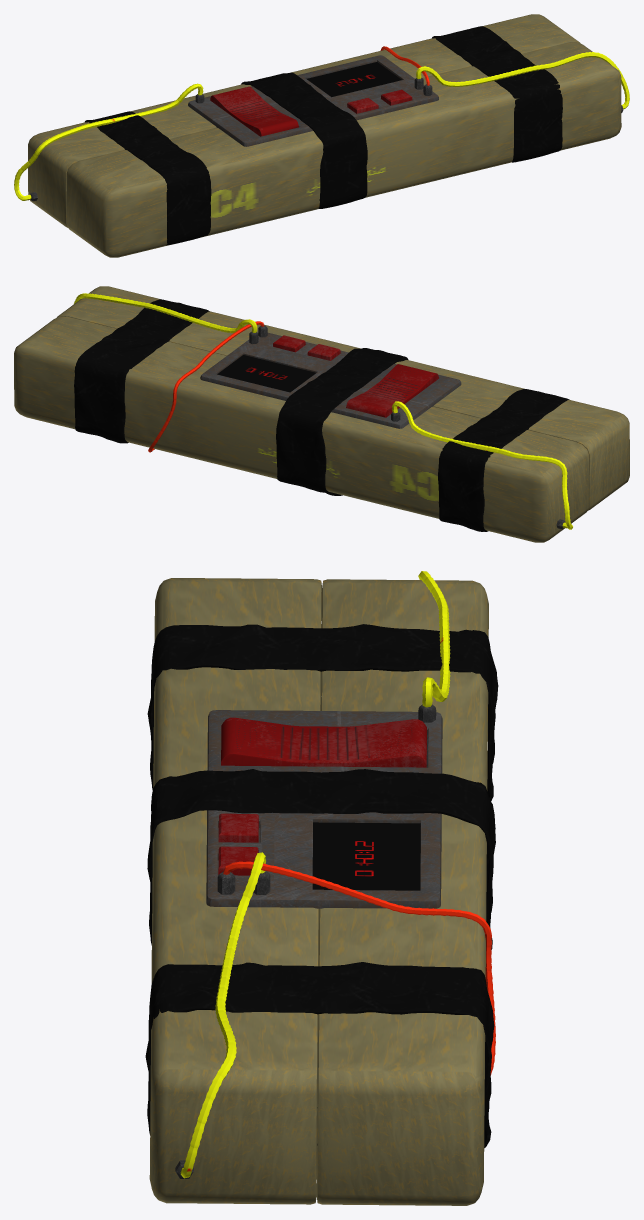
3 views of the same model, one above another, from view 1: azimuth 30°, elevation 25°; view 2: azimuth 150°, elevation 25°; view 3: azimuth 270°, elevation 25° (orthographic). The views are drawn at different scales.
Visible parts, largest first — view 1: Cube.001, skotch_low, Cube, Cube.004, Cube.011, Cylinder.003, Cylinder.006; view 2: Cube, skotch_low, Cube.001, Cube.004, Cube.011, Cylinder.006, Cylinder.003, Cylinder, Cube.005, Cube.010; view 3: Cube.001, Cube, skotch_low, Cube.004, Cube.011, Cylinder.003, Cylinder, Cylinder.006, Cube.005, Cube.010.
Part boxes in pixels (x1,y1,x2,y2): Cube.001: (66, 42, 621, 257); skotch_low: (85, 26, 562, 245); Cube: (28, 14, 580, 227); Cube.004: (188, 55, 438, 146); Cube.011: (210, 86, 298, 136); Cylinder.003: (416, 52, 629, 109); Cylinder.006: (14, 83, 203, 200); Cube: (14, 316, 589, 542); skotch_low: (74, 299, 569, 531); Cube.001: (57, 286, 629, 510); Cube.004: (200, 332, 461, 428); Cube.011: (346, 364, 438, 417); Cylinder.006: (392, 401, 572, 529); Cylinder.003: (74, 293, 257, 333); Cylinder: (148, 321, 264, 452); Cube.005: (307, 344, 340, 360); Cube.010: (273, 335, 305, 352); Cube.001: (149, 578, 321, 1204); Cube: (316, 579, 488, 1205); skotch_low: (145, 624, 498, 1147); Cube.004: (206, 710, 442, 908); Cube.011: (221, 717, 426, 767); Cylinder.003: (180, 852, 265, 1178); Cylinder: (223, 861, 495, 1075); Cylinder.006: (418, 571, 450, 707); Cube.005: (218, 813, 258, 842); Cube.010: (218, 846, 258, 875).
Bounding box in the file's own units: 327 × 63.79 × 91.2.
